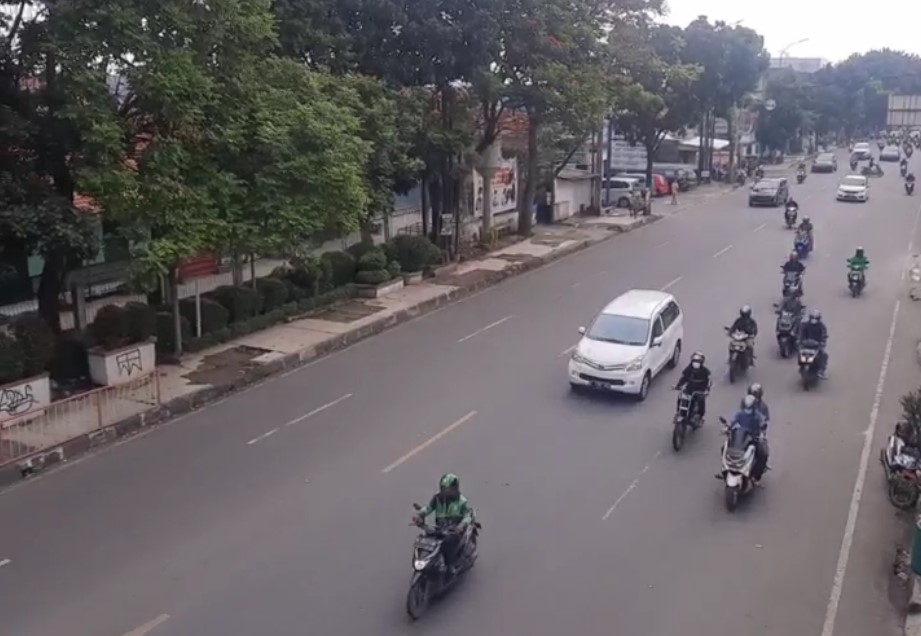motor: (405, 476, 484, 615), (719, 384, 776, 511), (672, 351, 714, 450), (723, 304, 760, 380), (796, 313, 832, 389), (766, 292, 807, 357), (773, 256, 811, 309), (844, 243, 868, 301), (787, 219, 825, 254)
